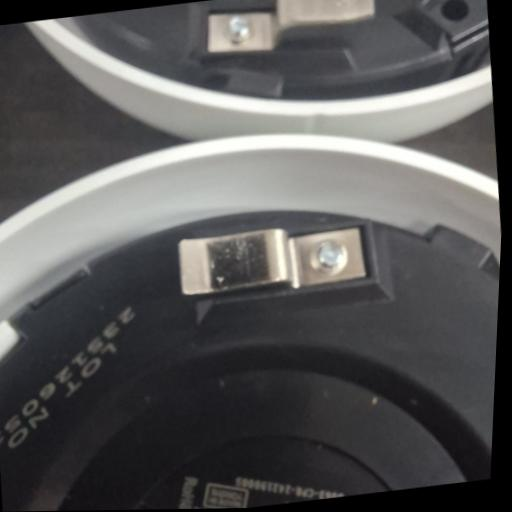yaysiz: (173, 215, 374, 304)
